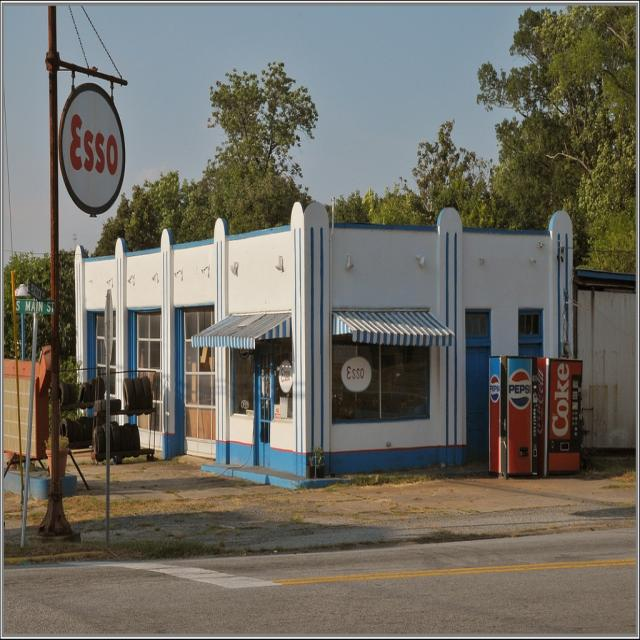esso: (56, 82, 132, 223), (339, 355, 377, 395), (278, 359, 297, 396)
